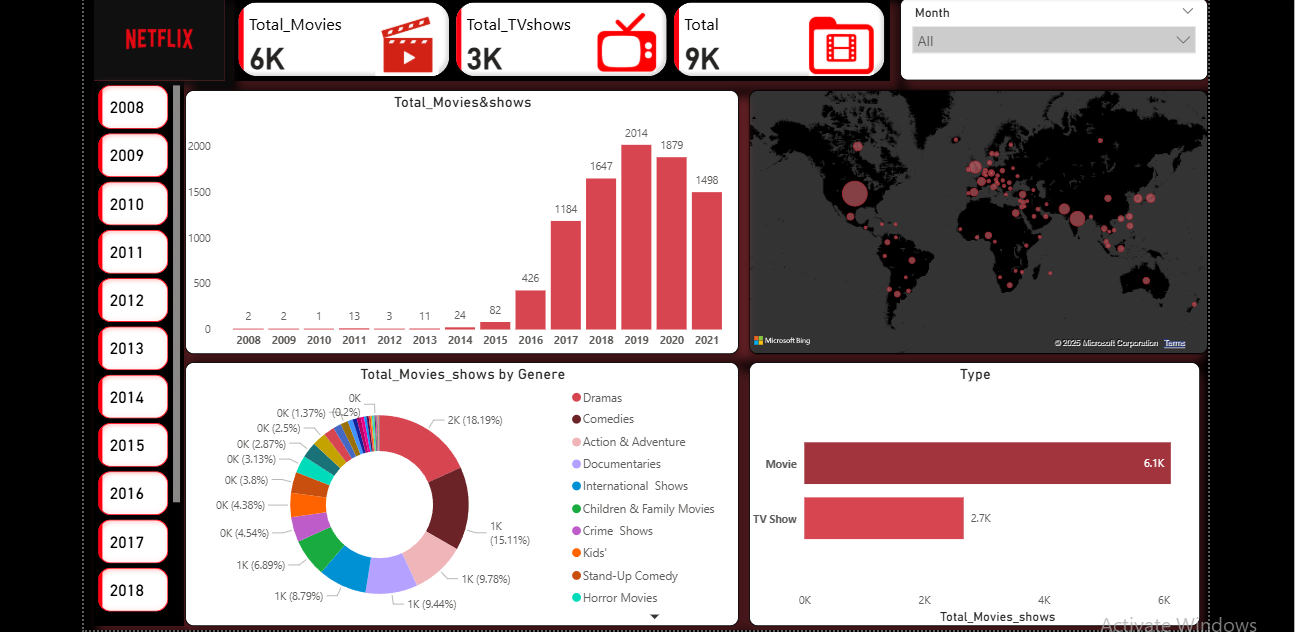

Layout of this report page (visuals, bound fields, positions):
{"tool":"powerbi","page":{"name":"Page 1","canvas":[1280,720],"ordinal":0},"visuals":[{"type":"shape","box":[0,0,170.8,94.3],"z":0},{"type":"image","box":[11.5,0,149.2,94.3],"z":1000},{"type":"shape","box":[0,114.7,123.7,605.6],"z":2000},{"type":"advancedSlicerVisual","fields":{"Values":["netflix1.date_added.Variation.Date Hierarchy.Year"]},"box":[11.5,94.3,103.3,620.9],"z":3000},{"type":"cardVisual","fields":{"Data":["netflix1.Total_Movies","netflix1.Total_TVshows","netflix1.Total_Movies_shows"]},"box":[170.8,0,747.1,94.3],"z":4000},{"type":"slicer","fields":{"Values":["netflix1.date_added.Variation.Date Hierarchy.Month"]},"box":[929.4,0,350.6,94.3],"z":5000},{"type":"map","fields":{"Category":["netflix1.country"],"Size":["netflix1.Total_Movies_shows"]},"box":[757.3,104.5,522.7,300.9],"z":6000},{"type":"columnChart","title":"Total_Movies&shows","fields":{"Category":["netflix1.date_added.Variation.Date Hierarchy.Year"],"Y":["netflix1.Total_Movies_shows"]},"box":[114.7,104.5,631.1,300.9],"z":7000},{"type":"donutChart","fields":{"Category":["netflix1.Genere"],"Y":["netflix1.Total_Movies_shows"]},"box":[114.7,414.3,631.1,300.9],"z":8000},{"type":"barChart","title":"Type","fields":{"Category":["netflix1.type"],"Y":["netflix1.Total_Movies_shows"]},"box":[757.3,414.3,513.8,300.9],"z":9000}]}

Visuals, with their boxes on the page's 1280x720 design canvas (x1, y1, x2, y2). These are canvas units, not pixel positions in the 1295x632 screenshot, which may show the page scaled, cropped or inside an application window:
shape: box(0, 0, 171, 94)
image: box(12, 0, 161, 94)
shape: box(0, 115, 124, 720)
advancedSlicerVisual - netflix1.date_added.Variation.Date Hierarchy.Year: box(12, 94, 115, 715)
cardVisual - netflix1.Total_Movies x netflix1.Total_TVshows: box(171, 0, 918, 94)
slicer - netflix1.date_added.Variation.Date Hierarchy.Month: box(929, 0, 1280, 94)
map - netflix1.country x netflix1.Total_Movies_shows: box(757, 104, 1280, 405)
"Total_Movies&shows" columnChart: box(115, 104, 746, 405)
donutChart - netflix1.Genere x netflix1.Total_Movies_shows: box(115, 414, 746, 715)
"Type" barChart: box(757, 414, 1271, 715)
